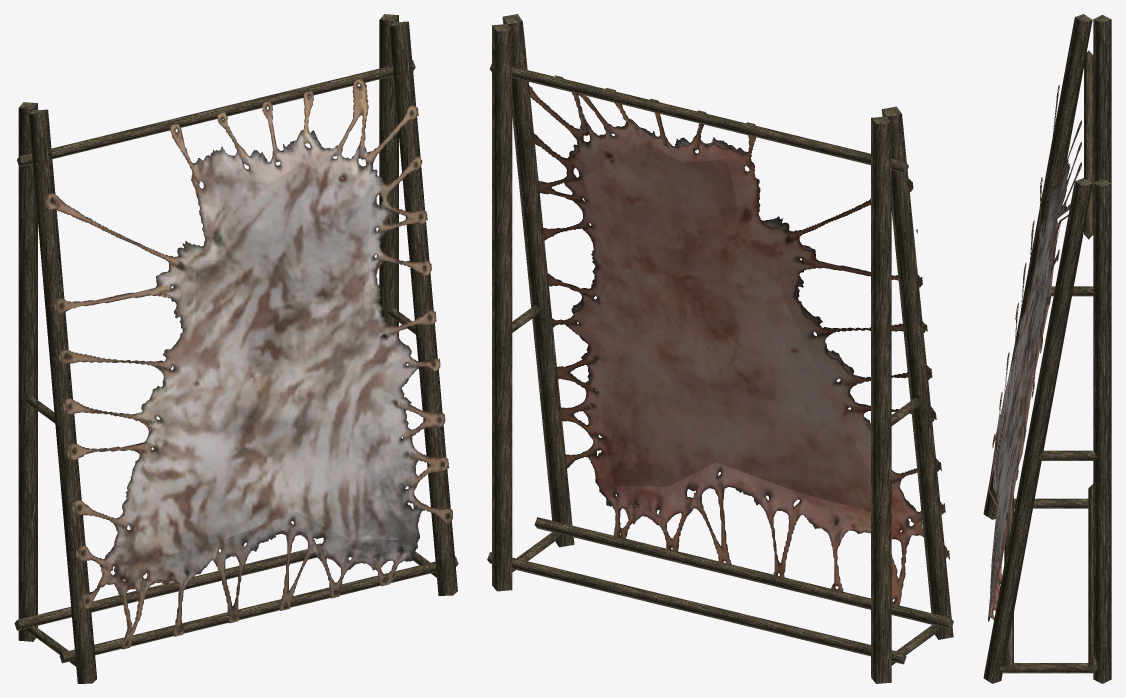
Rendered from thm_dant_hide_tanning_s02_l2.fbx.
The picture shows the model from 3 angles, left to right: view 1: azimuth 30°, elevation 25°; view 2: azimuth 150°, elevation 25°; view 3: azimuth 270°, elevation 25°; orthographic projection. The views are drawn at different scales.
Visible parts, largest first — view 1: mesh_node; view 2: mesh_node; view 3: mesh_node.
Boxes of the visible parts, x1,y1,x2,y2 form: mesh_node: [14, 14, 458, 683]; mesh_node: [487, 14, 953, 683]; mesh_node: [983, 14, 1111, 683].
Bounding box in the file's own units: 1.39 × 1.81 × 0.4214.
